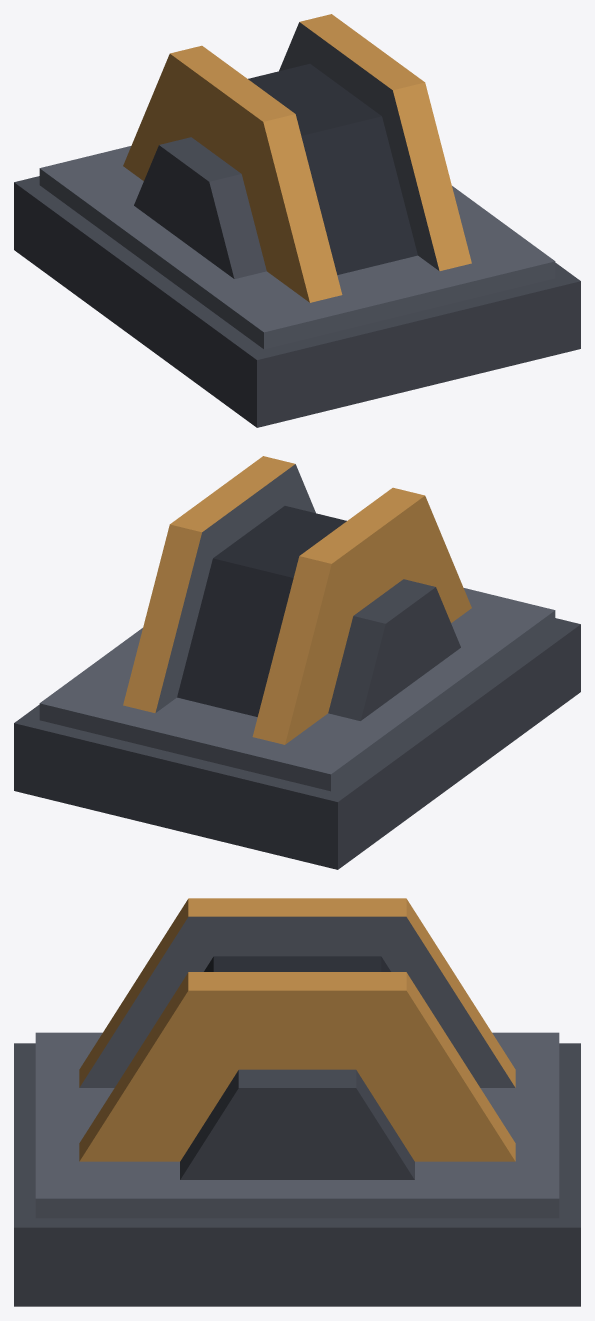
Rendered from station_generator.glb.
3 renders of one model, top to bottom at view 1: azimuth 30°, elevation 25°; view 2: azimuth 150°, elevation 25°; view 3: azimuth 270°, elevation 25°, orthographic. The views are drawn at different scales.
Visible parts, largest first — view 1: body; view 2: body; view 3: body.
Boxes of the visible parts, x1=… form: body: x1=14, y1=14, x2=580, y2=427; body: x1=14, y1=456, x2=580, y2=869; body: x1=14, y1=898, x2=580, y2=1306.
Size of the model in its own units: 1 by 0.683 by 1.3.
